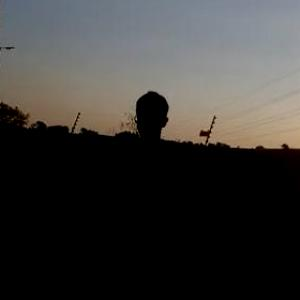follow: (70, 79, 190, 299)
